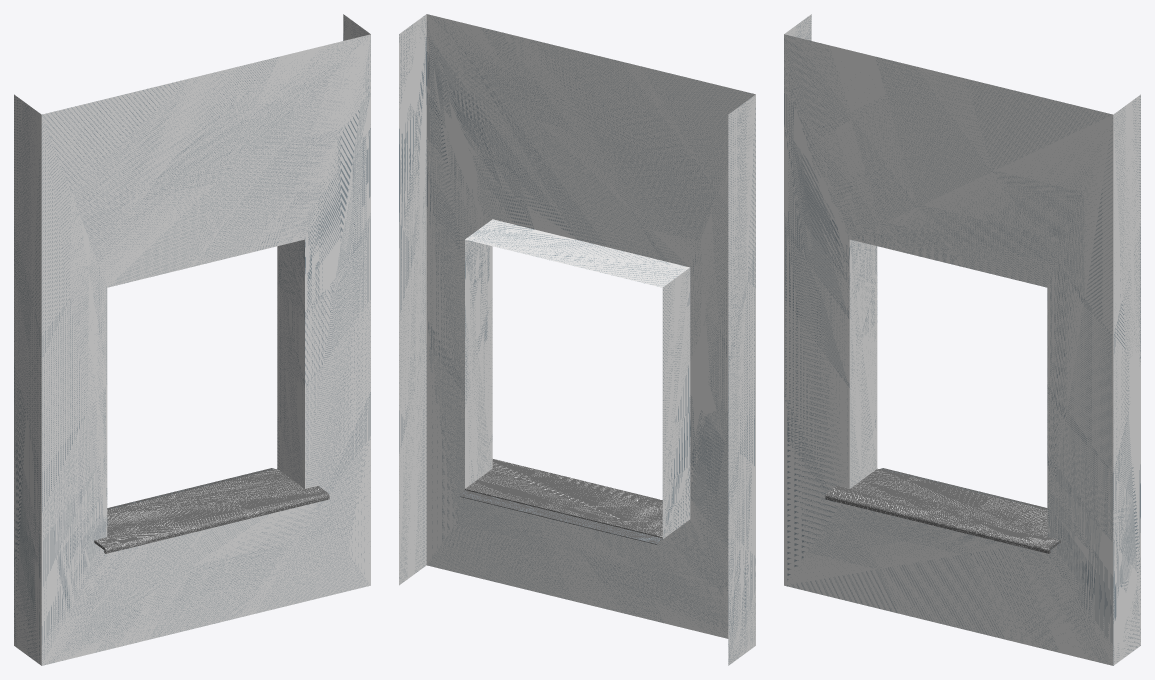
The model's file is WindowBlock_os_[250x400]_150x181x[080].dae.
The picture shows the model from 3 angles, left to right: view 1: azimuth 30°, elevation 25°; view 2: azimuth 150°, elevation 25°; view 3: azimuth 330°, elevation 25°; orthographic projection.
Visible parts, largest first — view 1: group_1 (×2), group_2; view 2: group_1 (×2), group_2 (×2); view 3: group_1 (×2), group_2.
Boxes of the visible parts, <box> form: group_1 (×2): <box>14,14,370,665</box>; group_2: <box>94,468,329,553</box>; group_1 (×2): <box>399,14,755,665</box>; group_2 (×2): <box>459,459,662,544</box>; group_1 (×2): <box>784,14,1140,665</box>; group_2: <box>825,468,1059,553</box>.
Size of the model in its own units: 98.43 by 23.03 by 157.
